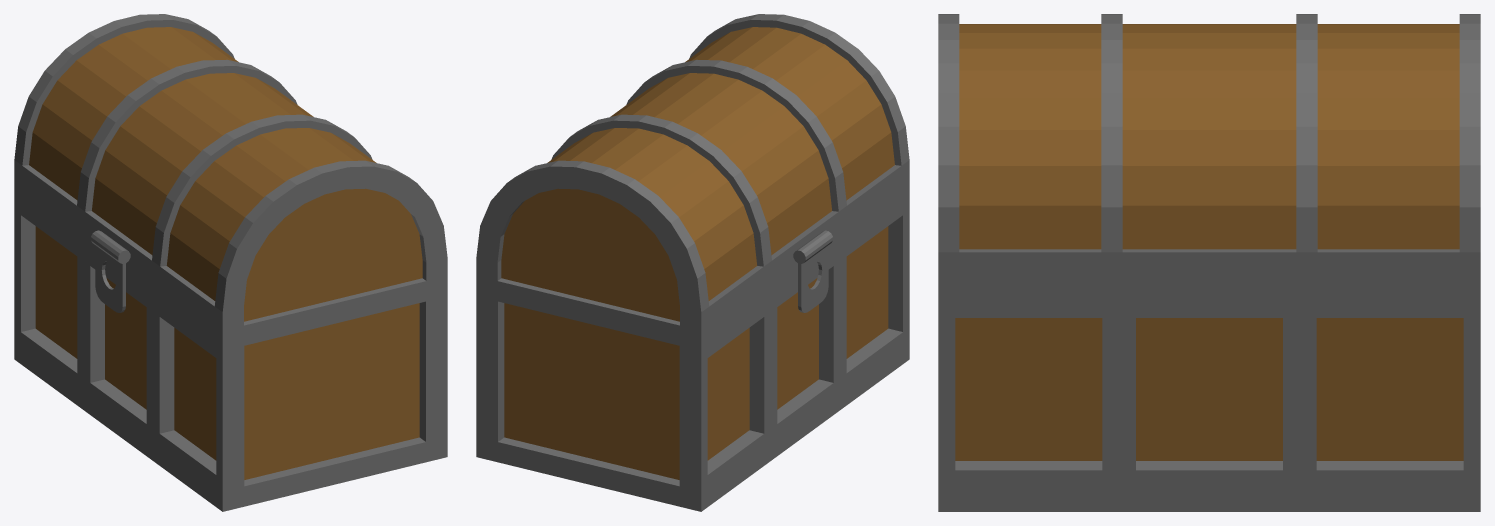
Rendered from chest.fbx.
The picture shows the model from 3 angles, left to right: view 1: azimuth 30°, elevation 25°; view 2: azimuth 150°, elevation 25°; view 3: azimuth 270°, elevation 25°; orthographic projection. The views are drawn at different scales.
Parts seen in each view (by area): view 1: chest_cover, chest_body; view 2: chest_cover, chest_body; view 3: chest_cover, chest_body.
Boxes of the visible parts, x1=… form: chest_cover: x1=14, y1=14, x2=447, y2=330; chest_body: x1=14, y1=178, x2=447, y2=511; chest_cover: x1=476, y1=14, x2=909, y2=330; chest_body: x1=476, y1=178, x2=909, y2=511; chest_cover: x1=938, y1=14, x2=1480, y2=276; chest_body: x1=938, y1=276, x2=1480, y2=511.
Size of the model in its own units: 2.76 by 3.47 by 4.17.
